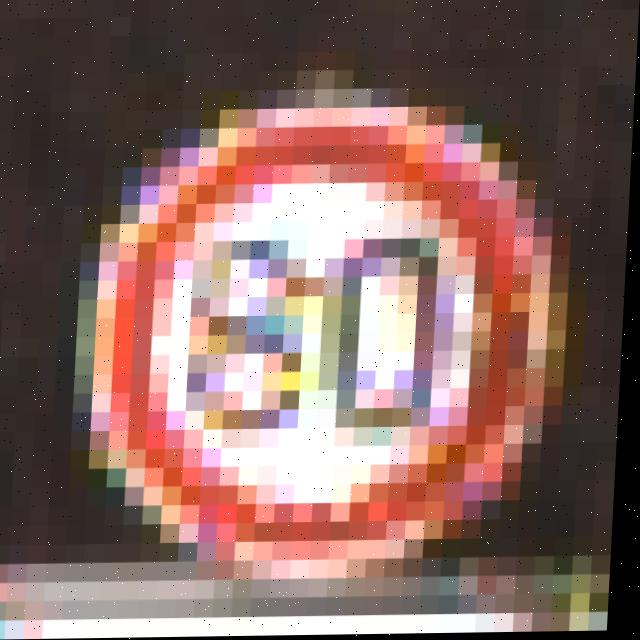speed_limit_80: (72, 82, 589, 571)
